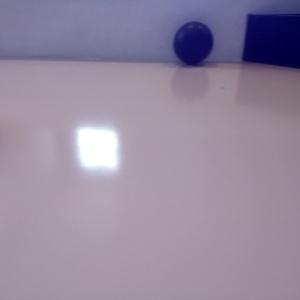zone: (242, 14, 300, 68)
